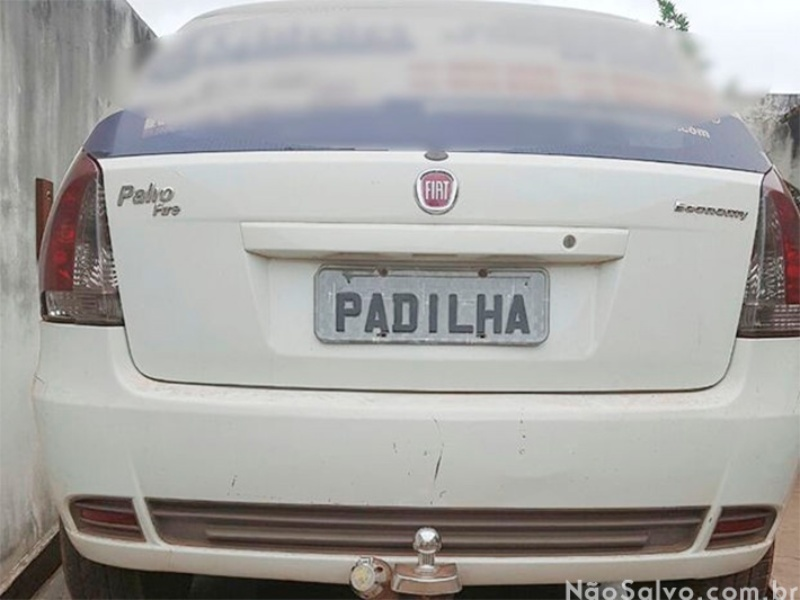placa: (312, 260, 554, 349)
